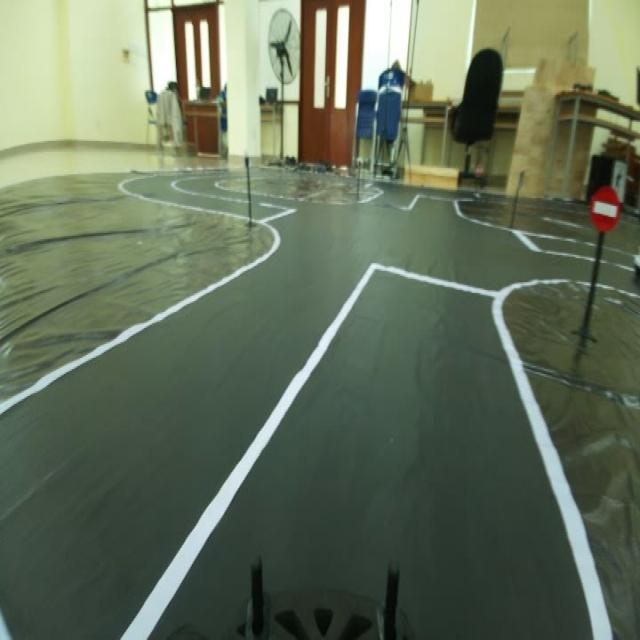no_entry: (589, 174, 621, 232)
